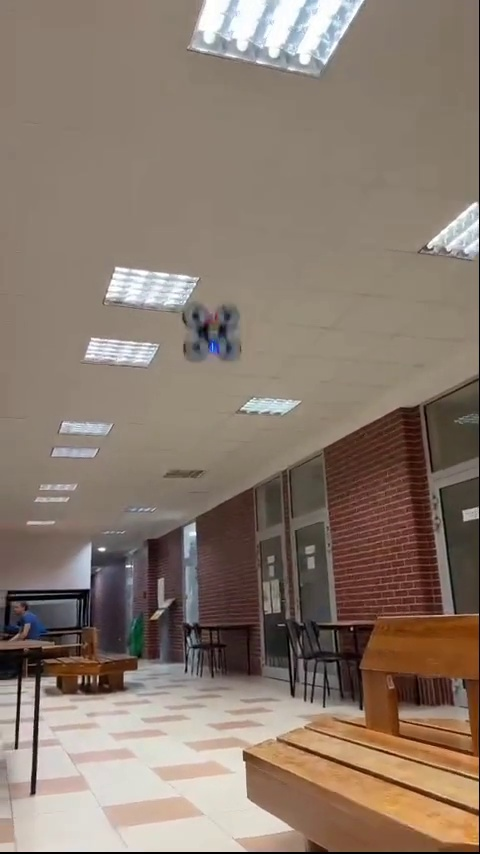drone: (178, 305, 243, 365)
no vest: (2, 600, 47, 638)
